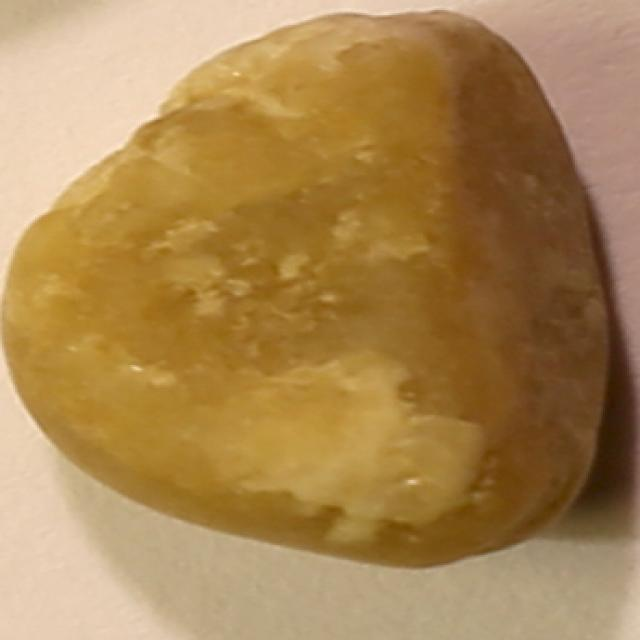stone: (0, 6, 627, 573)
